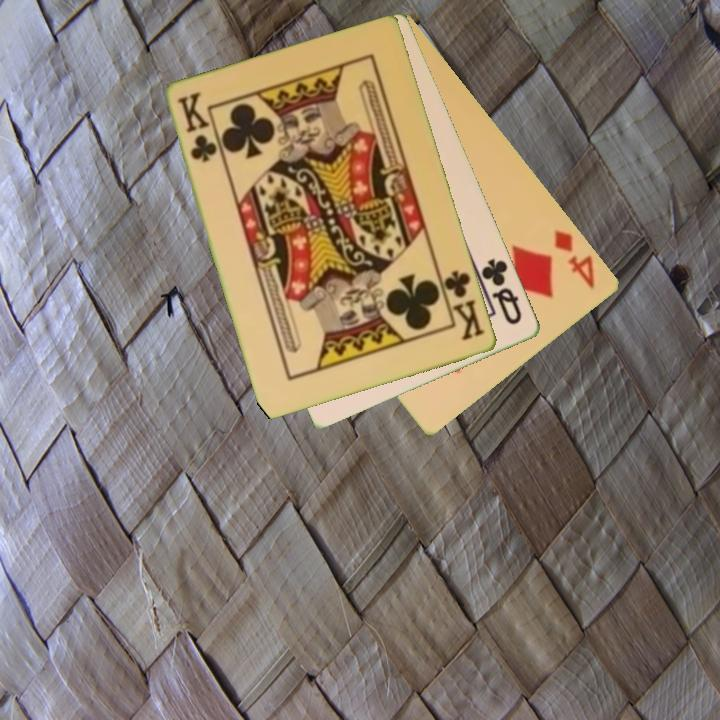4d: (551, 226, 599, 293)
Kc: (436, 266, 488, 344), (174, 89, 220, 166)
Qc: (478, 255, 526, 328)
